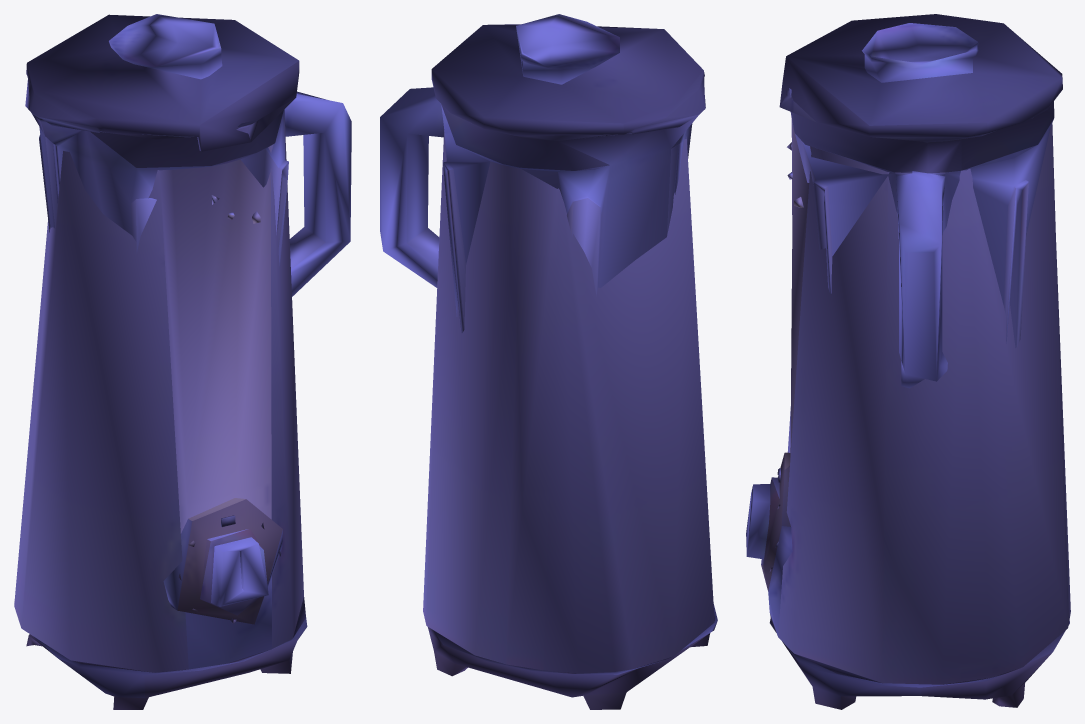
Rendered from model.progressive.glb.
3 renders of one model, left to right at view 1: azimuth 30°, elevation 25°; view 2: azimuth 150°, elevation 25°; view 3: azimuth 270°, elevation 25°, orthographic.
Parts seen in each view (by area): view 1: material; view 2: material; view 3: material.
Part boxes in pixels (<box>): material: <box>14,14,351,709</box>; material: <box>380,14,717,709</box>; material: <box>746,14,1070,709</box>.
Bounding box in the file's own units: 1 × 1.9 × 0.8885.
Materials: 1 (1 with a texture image).
